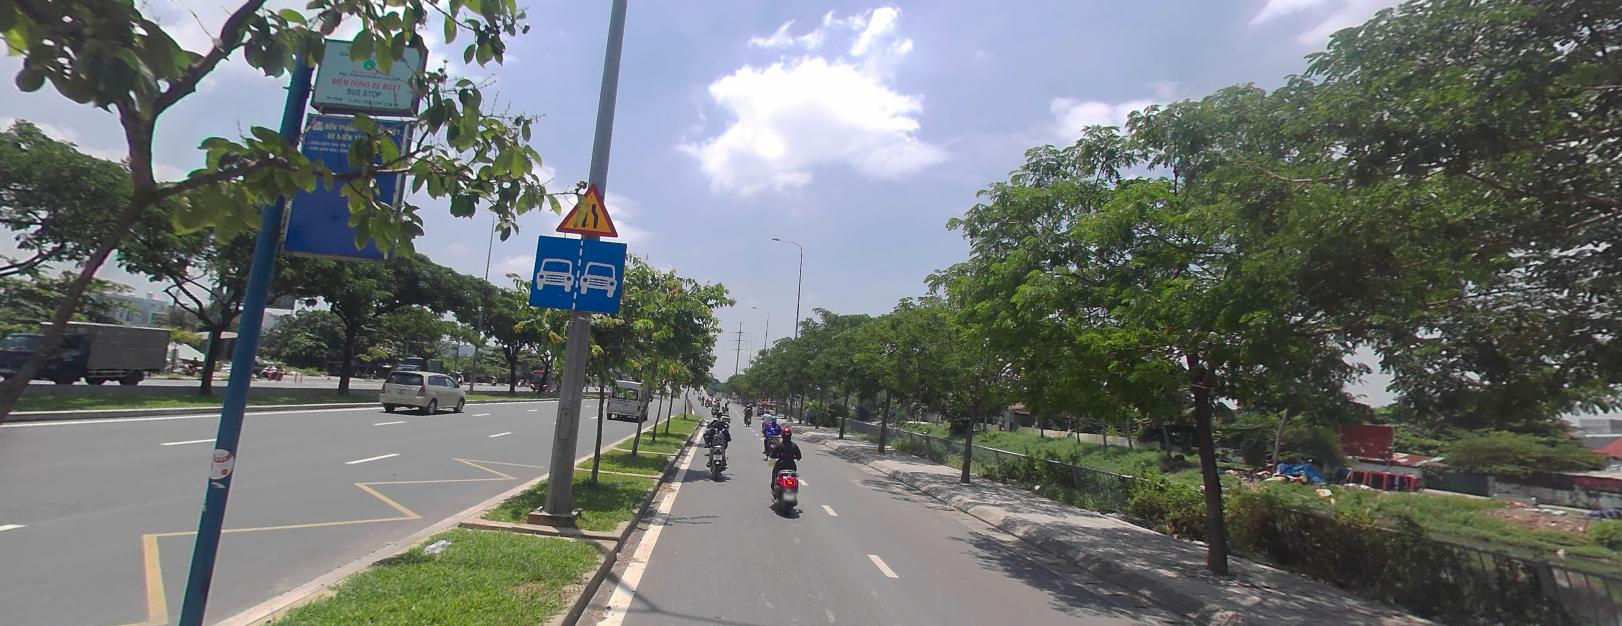Nguy hiem: (553, 178, 619, 236)
